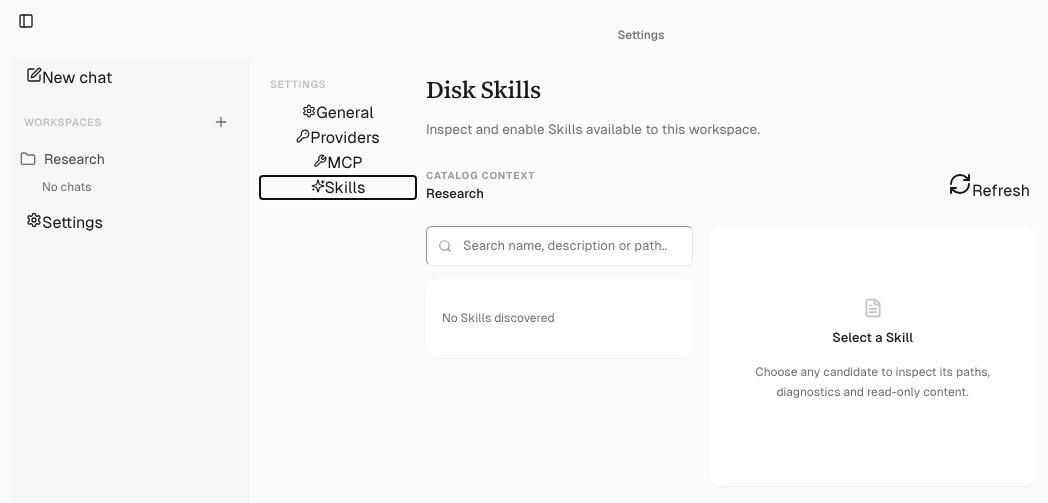
Test case: AppShell › opens the requested Skills settings pane without losing the active session draft
Expected: the heading "Disk Skills" is shown, left=426, top=73, right=541, bottom=106
Click the button "Settings": (64, 222) left=20, top=211, right=109, bottom=234
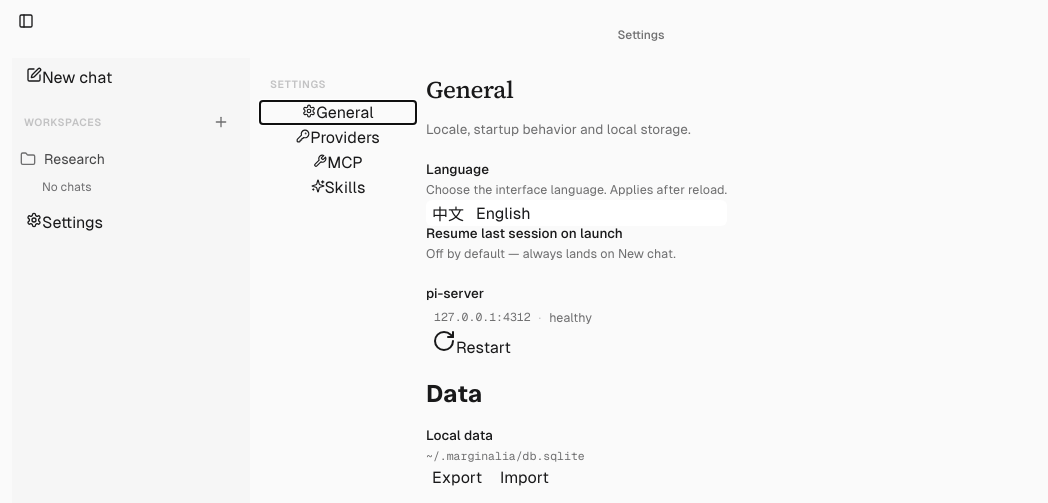
Expected: the text "Locale, startup behavior and local storage." is shown, left=426, top=122, right=727, bottom=138
